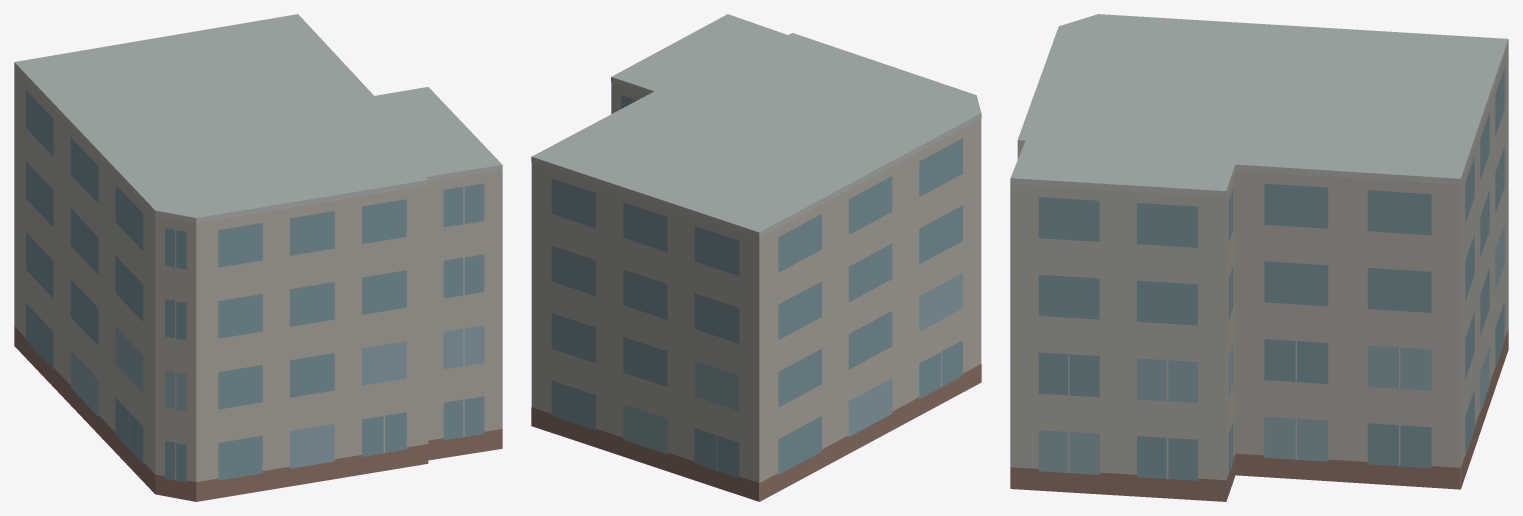
Rendered from survey-upis-32871210.glb.
3 renders of one model, left to right at view 1: azimuth 30°, elevation 25°; view 2: azimuth 150°, elevation 25°; view 3: azimuth 270°, elevation 25°, orthographic. The views are drawn at different scales.
Visible parts, largest first — view 1: survey-upis-32871210.tmp; view 2: survey-upis-32871210.tmp; view 3: survey-upis-32871210.tmp.
Part boxes in pixels (x1,y1,x2,y2): survey-upis-32871210.tmp: (14,14,502,501); survey-upis-32871210.tmp: (531,14,981,501); survey-upis-32871210.tmp: (1010,14,1508,501).
Size of the model in its own units: 15.29 by 12.5 by 18.17.
